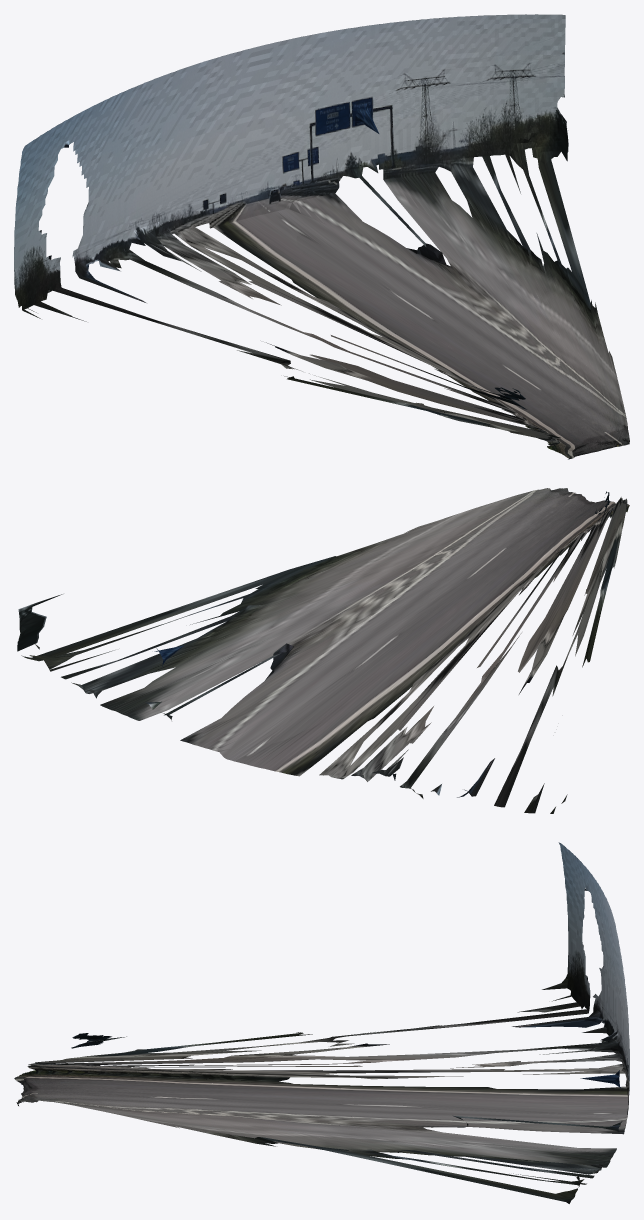
The picture shows the model from 3 angles, top to bottom: view 1: azimuth 30°, elevation 25°; view 2: azimuth 150°, elevation 25°; view 3: azimuth 270°, elevation 25°; orthographic projection. The views are drawn at different scales.
Parts seen in each view (by area): view 1: defaultobject; view 2: defaultobject; view 3: defaultobject.
Part boxes in pixels (x1,y1,x2,y2): defaultobject: (14, 14, 629, 459); defaultobject: (17, 488, 629, 813); defaultobject: (14, 842, 629, 1203).
Bounding box in the file's own units: 41.11 × 13.11 × 44.75.
Materials: 1 (1 with a texture image).
